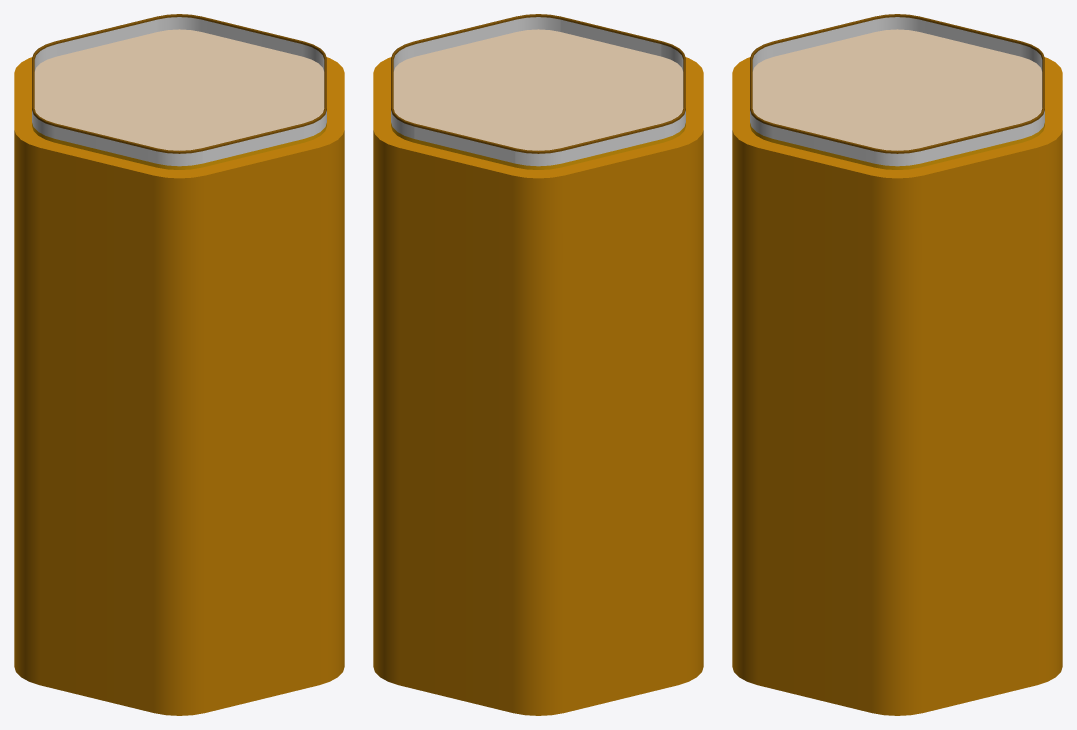
The picture shows the model from 3 angles, left to right: view 1: azimuth 30°, elevation 25°; view 2: azimuth 150°, elevation 25°; view 3: azimuth 270°, elevation 25°; orthographic projection.
Parts seen in each view (by area): view 1: base40, base, polySurface1169, polySurface1170, polySurface176; view 2: base40, base, polySurface1169, polySurface1170, polySurface176; view 3: base40, base, polySurface1170, polySurface1169, polySurface176.
Boxes of the visible parts, x1,y1,x2,y2 form: base40: [14, 57, 344, 715]; base: [32, 29, 326, 169]; polySurface1169: [32, 44, 202, 166]; polySurface1170: [157, 17, 326, 138]; polySurface176: [32, 14, 326, 153]; base40: [373, 57, 703, 715]; base: [391, 29, 685, 169]; polySurface1169: [515, 44, 685, 166]; polySurface1170: [391, 17, 561, 138]; polySurface176: [391, 14, 685, 153]; base40: [732, 57, 1062, 715]; base: [750, 29, 1044, 169]; polySurface1170: [750, 110, 1044, 166]; polySurface1169: [752, 17, 1042, 71]; polySurface176: [750, 14, 1044, 153].
Size of the model in its own units: 70 by 117 by 63.27.
